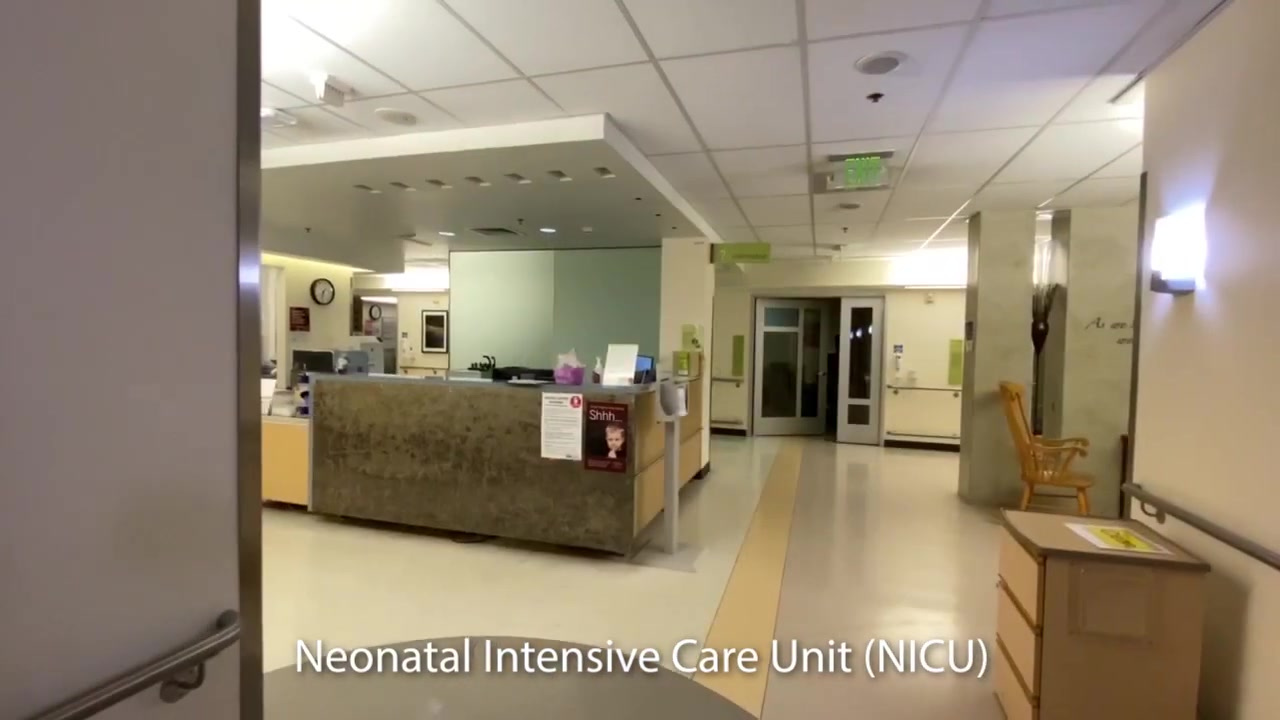chair: (999, 382, 1095, 516)
counter: (310, 373, 701, 559)
hallway_assist_bar: (1, 601, 246, 720), (1120, 482, 1280, 571), (889, 430, 961, 442), (889, 383, 965, 393), (713, 372, 747, 385), (712, 417, 746, 430)
table: (988, 508, 1212, 720)
